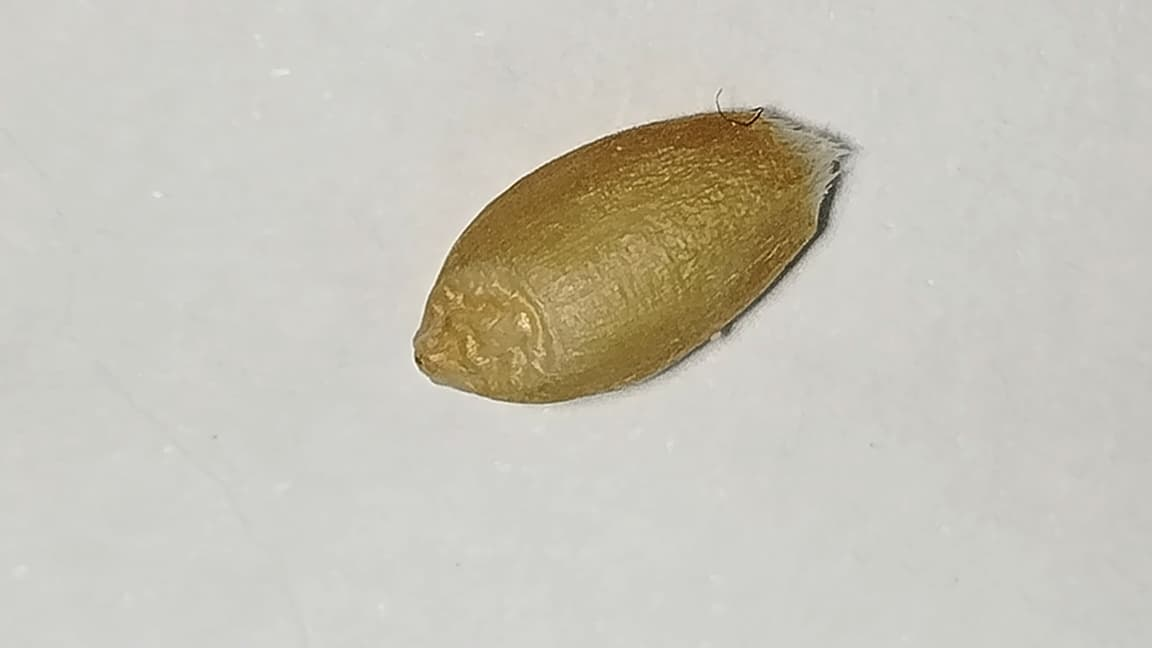healthy: (415, 111, 843, 400)
